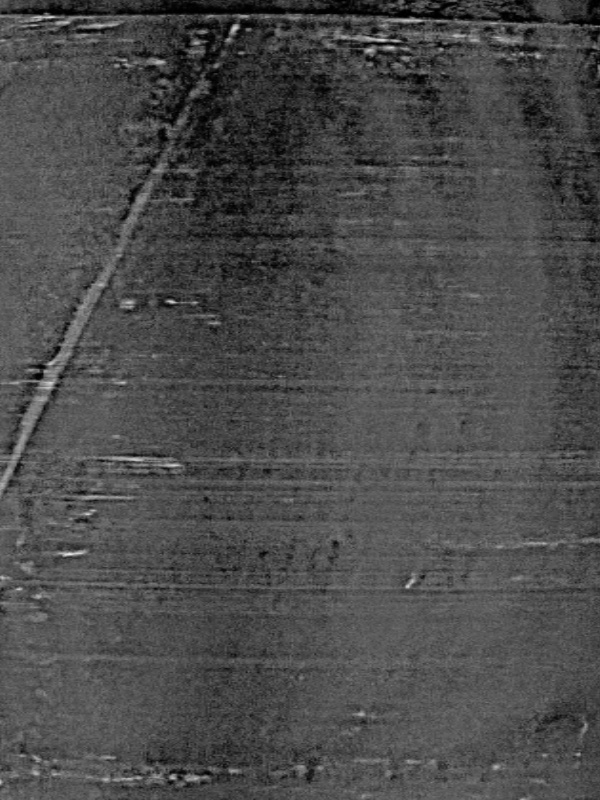splice_vulcanized: (2, 16, 252, 502)
